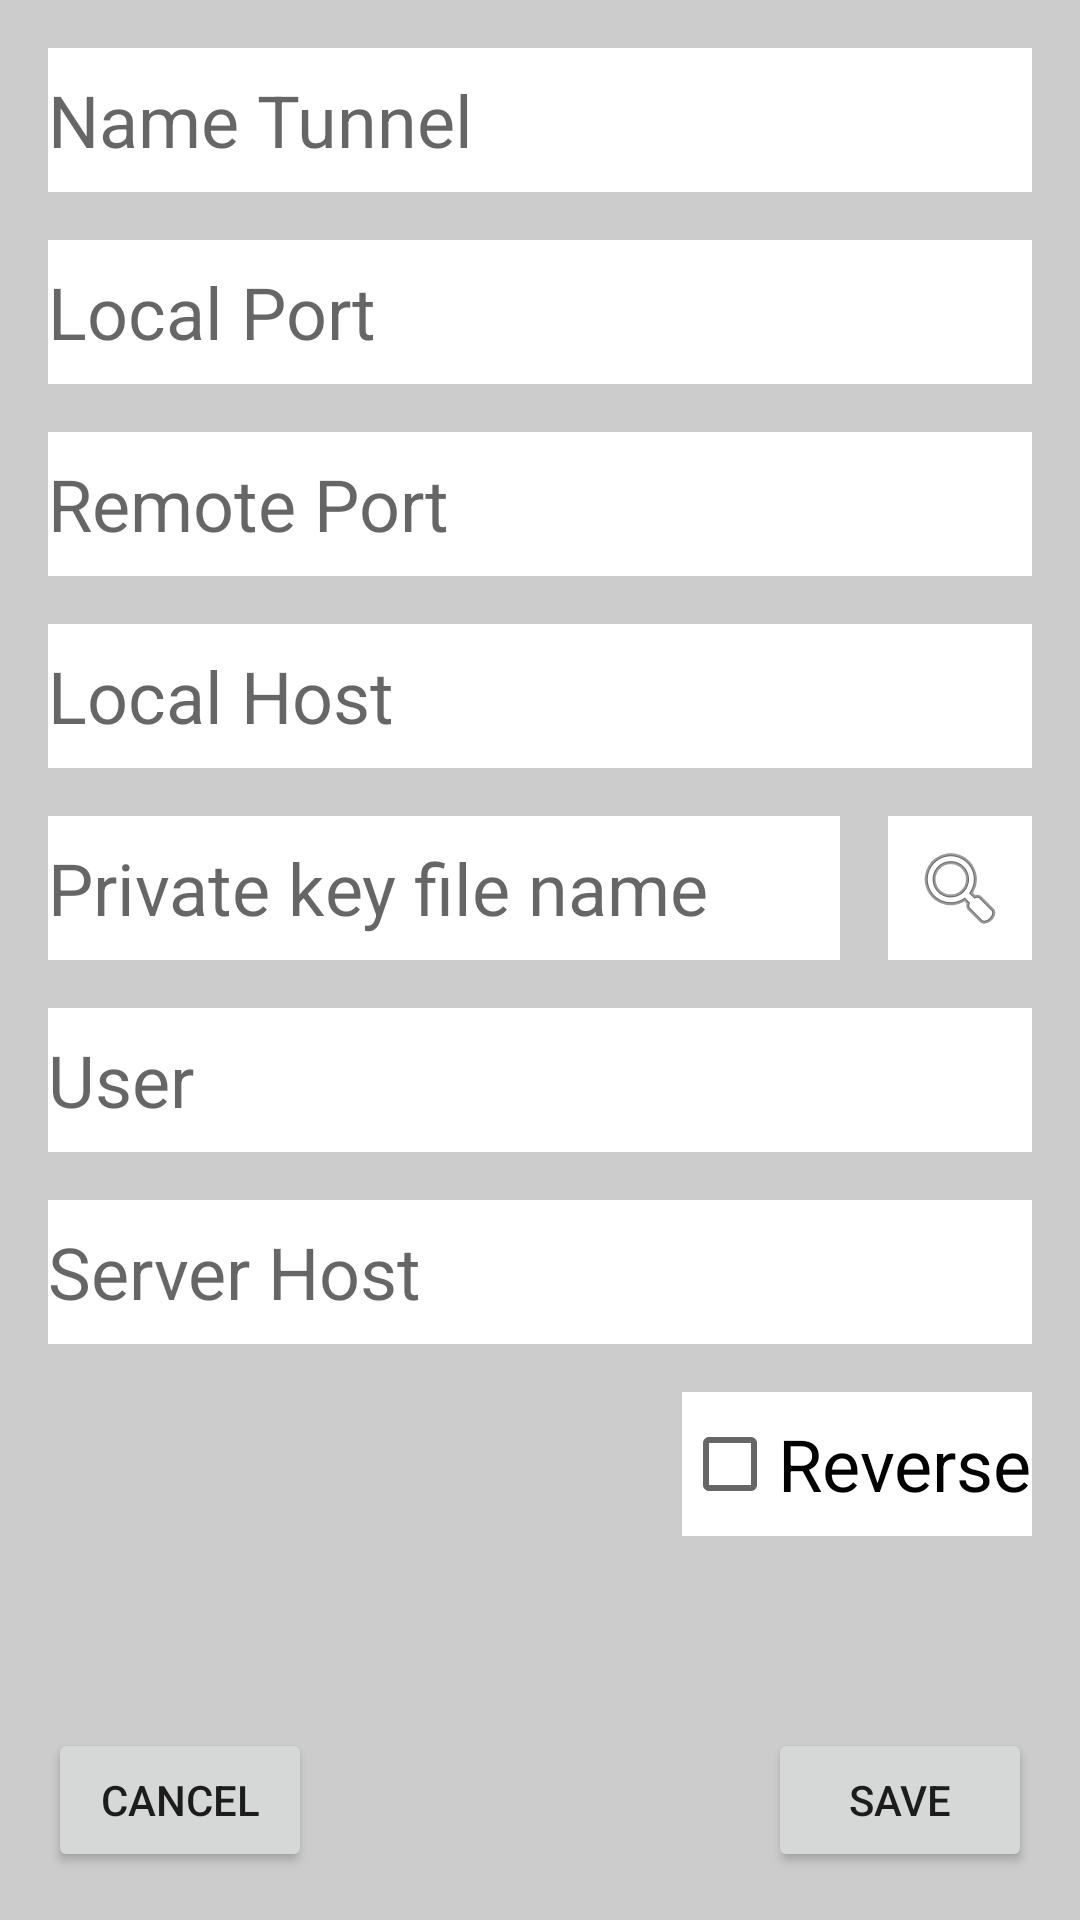

Point at icon controls on the screen. Image size 1080w x 1920h, points as (x=x, y=y).
search: (x=960, y=888)
